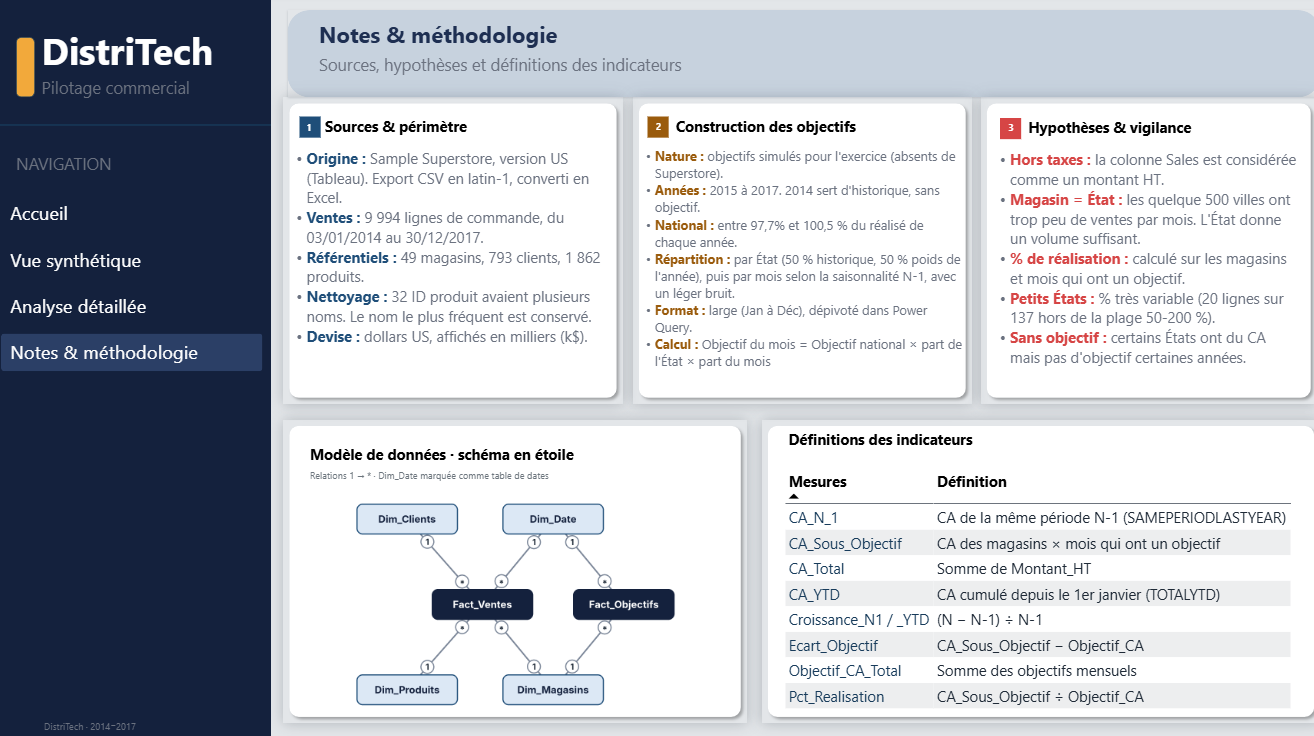

The page's visual inventory and layout, read from the dashboard file:
{"tool":"powerbi","page":{"name":"Notes & méthodologie","canvas":[1920,1080],"ordinal":4},"visuals":[{"type":"shape","box":[0,0,400,1080],"z":0,"group":"g1"},{"type":"group","id":"g1","title":" Barre latérale","box":[0,0,400,1080],"z":0},{"type":"shape","box":[423.3,16.7,1496.7,126.7],"z":1000},{"type":"textbox","box":[66.7,40,296.7,93.3],"z":1000,"group":"g1"},{"type":"textbox","box":[67.5,112.5,265,42.5],"z":2000,"group":"g1"},{"type":"shape","box":[417.7,142.9,492.5,445],"z":2000},{"type":"shape","box":[30.7,55.9,27.4,87.4],"z":3000,"group":"g1"},{"type":"textbox","box":[420.2,152.9,480,410],"z":3000},{"type":"shape","box":[0,156.2,400,55.1],"z":4000,"group":"g1"},{"type":"shape","box":[440.4,172.5,30.9,30.9],"z":4000},{"type":"textbox","box":[446.4,178.6,19.3,18.3],"z":5000},{"type":"textbox","box":[30.3,223.6,160,42.5],"z":5000,"group":"g1"},{"type":"shape","box":[923.4,142.6,492,445],"z":6000},{"type":"pageNavigator","box":[9.1,284.1,379.5,256.8],"z":6000,"group":"g1"},{"type":"textbox","box":[928.3,152.2,480.4,423.9],"z":7000},{"type":"shape","box":[945.6,170.8,30.9,30.9],"z":8000},{"type":"textbox","box":[951.5,177,19.3,18.3],"z":9000},{"type":"shape","box":[1427.5,142.5,487.5,445],"z":10000},{"type":"textbox","box":[67.9,1037.5,160,42.5],"z":10000,"group":"g1"},{"type":"textbox","box":[1440,155,447.5,422.5],"z":11000},{"type":"shape","box":[1457.2,172.8,30.9,30.9],"z":12000},{"type":"textbox","box":[1463.2,179,19.3,18.3],"z":13000},{"type":"shape","box":[417.1,611.4,672.5,440],"z":14000},{"type":"textbox","box":[470,80,582,43],"z":15000},{"type":"textbox","box":[470,30,360,50],"z":16000},{"type":"textbox","box":[455.7,682.1,362.5,25],"z":17000},{"type":"textbox","box":[455.7,644.6,415,50],"z":18000},{"type":"image","box":[459.4,727.1,600,305],"z":19000},{"type":"shape","box":[1110.3,610.4,810,440],"z":20000},{"type":"tableEx","fields":{"Values":["Notes_Definitions.Mesures","Notes_Definitions.Définition"]},"box":[1127.8,667.9,792.5,382.5],"z":21000},{"type":"textbox","box":[1150.2,622.9,360,32.5],"z":22000}]}

Visuals, with their boxes on the page's 1920x1080 design canvas (x1, y1, x2, y2). These are canvas units, not pixel positions in the 1314x736 screenshot, which may show the page scaled, cropped or inside an application window:
shape: crop(0, 0, 400, 1080)
" Barre latérale" group: crop(0, 0, 400, 1080)
shape: crop(423, 17, 1920, 143)
textbox: crop(67, 40, 363, 133)
textbox: crop(68, 112, 332, 155)
shape: crop(418, 143, 910, 588)
shape: crop(31, 56, 58, 143)
textbox: crop(420, 153, 900, 563)
shape: crop(0, 156, 400, 211)
shape: crop(440, 172, 471, 203)
textbox: crop(446, 179, 466, 197)
textbox: crop(30, 224, 190, 266)
shape: crop(923, 143, 1415, 588)
pageNavigator: crop(9, 284, 389, 541)
textbox: crop(928, 152, 1409, 576)
shape: crop(946, 171, 976, 202)
textbox: crop(952, 177, 971, 195)
shape: crop(1428, 142, 1915, 588)
textbox: crop(68, 1038, 228, 1080)
textbox: crop(1440, 155, 1888, 578)
shape: crop(1457, 173, 1488, 204)
textbox: crop(1463, 179, 1482, 197)
shape: crop(417, 611, 1090, 1051)
textbox: crop(470, 80, 1052, 123)
textbox: crop(470, 30, 830, 80)
textbox: crop(456, 682, 818, 707)
textbox: crop(456, 645, 871, 695)
image: crop(459, 727, 1059, 1032)
shape: crop(1110, 610, 1920, 1050)
tableEx - Notes_Definitions.Mesures x Notes_Definitions.Définition: crop(1128, 668, 1920, 1050)
textbox: crop(1150, 623, 1510, 655)
